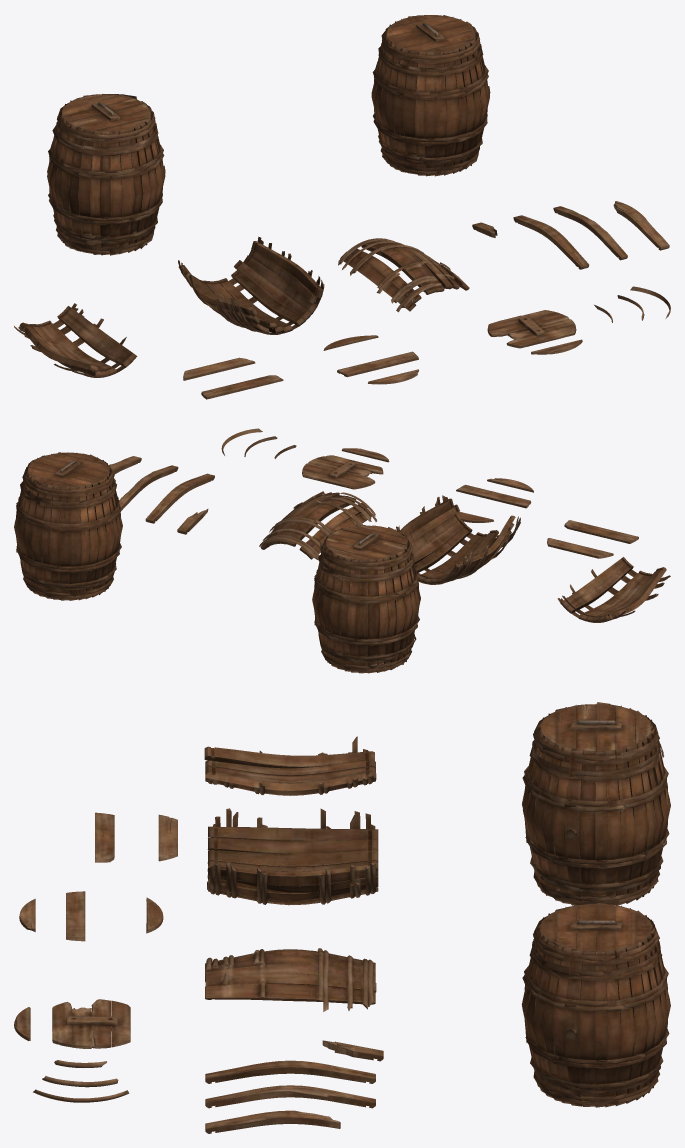
File: wooden_barrels_01.glb
3 renders of one model, top to bottom at view 1: azimuth 30°, elevation 25°; view 2: azimuth 150°, elevation 25°; view 3: azimuth 270°, elevation 25°, orthographic. The views are drawn at different scales.
Parts seen in each view (by area): view 1: wooden_barrels_01_barrel02, wooden_barrels_01_barrel01, wooden_barrels_01_piece01, wooden_barrels_01_piece03, wooden_barrels_01_piece02, wooden_barrels_01_piece08, wooden_barrels_01_piece04, wooden_barrels_01_piece05, wooden_barrels_01_piece06, wooden_barrels_01_piece11, wooden_barrels_01_piece14, wooden_barrels_01_piece13; view 2: wooden_barrels_01_barrel02, wooden_barrels_01_barrel01, wooden_barrels_01_piece01, wooden_barrels_01_piece03, wooden_barrels_01_piece02, wooden_barrels_01_piece08, wooden_barrels_01_piece04, wooden_barrels_01_piece14, wooden_barrels_01_piece11, wooden_barrels_01_piece05, wooden_barrels_01_piece13; view 3: wooden_barrels_01_barrel01, wooden_barrels_01_barrel02, wooden_barrels_01_piece01, wooden_barrels_01_piece03, wooden_barrels_01_piece02, wooden_barrels_01_piece08, wooden_barrels_01_piece04, wooden_barrels_01_piece05, wooden_barrels_01_piece06, wooden_barrels_01_piece11, wooden_barrels_01_piece14, wooden_barrels_01_piece13 (+1 smaller).
Boxes of the visible parts, x1,y1,x2,y2 form: wooden_barrels_01_barrel02: (47, 94, 165, 255); wooden_barrels_01_barrel01: (371, 15, 490, 176); wooden_barrels_01_piece01: (178, 236, 324, 334); wooden_barrels_01_piece03: (338, 238, 469, 312); wooden_barrels_01_piece02: (14, 303, 137, 377); wooden_barrels_01_piece08: (487, 310, 576, 348); wooden_barrels_01_piece04: (513, 215, 589, 269); wooden_barrels_01_piece05: (553, 206, 627, 260); wooden_barrels_01_piece06: (613, 201, 669, 250); wooden_barrels_01_piece11: (337, 351, 418, 377); wooden_barrels_01_piece14: (201, 375, 283, 399); wooden_barrels_01_piece13: (183, 357, 255, 380); wooden_barrels_01_barrel02: (312, 524, 420, 673); wooden_barrels_01_barrel01: (14, 452, 122, 600); wooden_barrels_01_piece01: (396, 495, 520, 584); wooden_barrels_01_piece03: (259, 491, 376, 560); wooden_barrels_01_piece02: (557, 557, 670, 622); wooden_barrels_01_piece08: (302, 455, 383, 489); wooden_barrels_01_piece04: (145, 473, 214, 523); wooden_barrels_01_piece14: (564, 520, 638, 543); wooden_barrels_01_piece11: (456, 484, 531, 508); wooden_barrels_01_piece05: (119, 465, 178, 510); wooden_barrels_01_piece13: (547, 538, 613, 558); wooden_barrels_01_barrel01: (521, 902, 670, 1107); wooden_barrels_01_barrel02: (522, 702, 670, 905); wooden_barrels_01_piece01: (207, 808, 378, 905); wooden_barrels_01_piece03: (205, 948, 376, 1011); wooden_barrels_01_piece02: (204, 736, 376, 795); wooden_barrels_01_piece08: (52, 999, 130, 1048); wooden_barrels_01_piece04: (205, 1060, 375, 1083); wooden_barrels_01_piece05: (205, 1085, 375, 1108); wooden_barrels_01_piece06: (205, 1110, 340, 1133); wooden_barrels_01_piece11: (66, 891, 85, 941); wooden_barrels_01_piece14: (95, 812, 114, 862); wooden_barrels_01_piece13: (158, 814, 177, 861).
Bounding box in the file's own units: 4.44 × 0.9545 × 3.35.
Materials: 3 (3 with a texture image).
